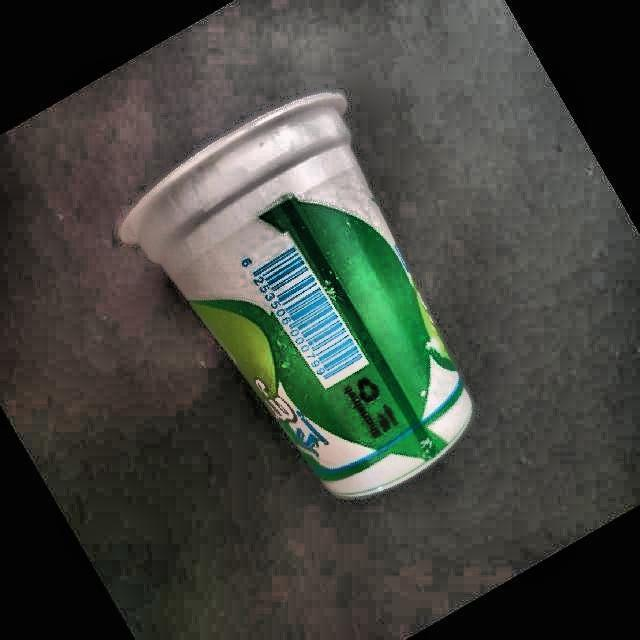plastic: (121, 92, 471, 497)
